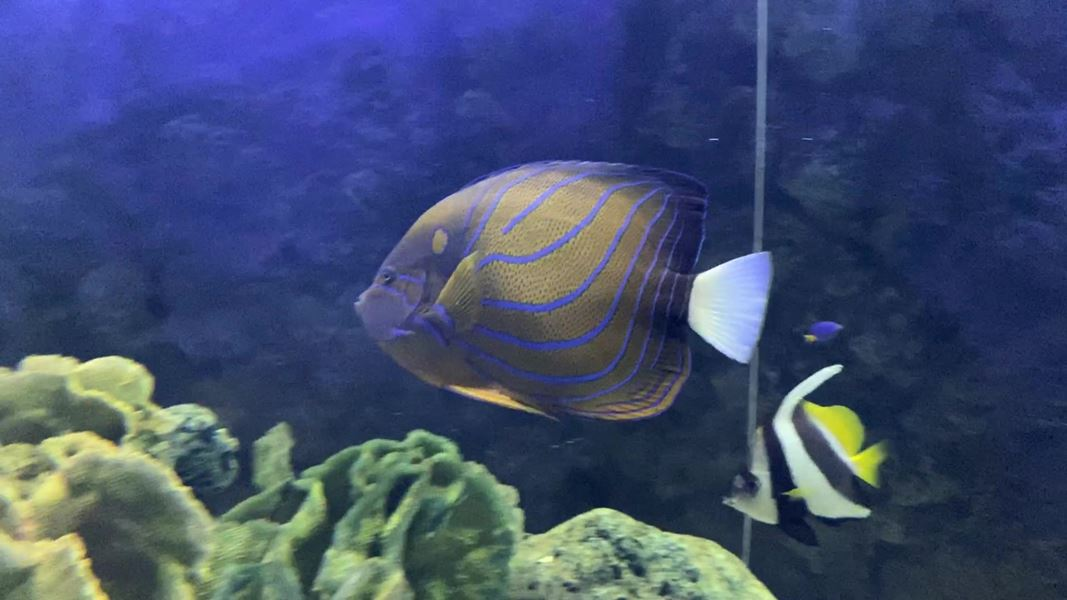Blue ring angelfish: (323, 150, 798, 445)
